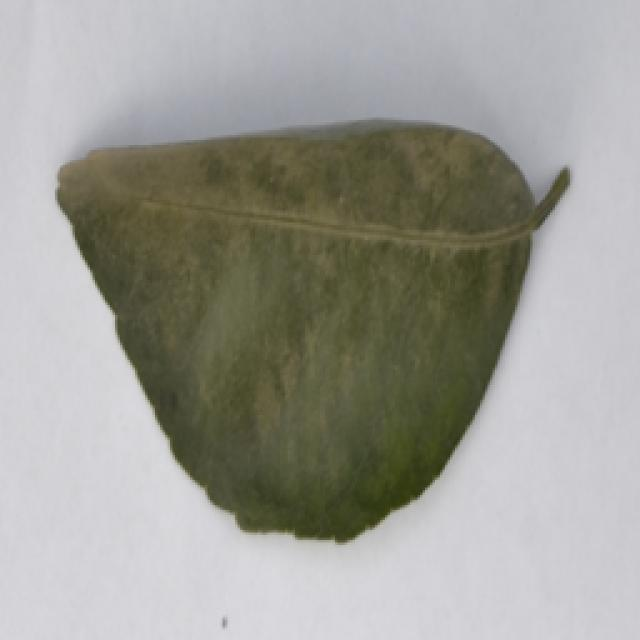healthy: (49, 111, 574, 555)
